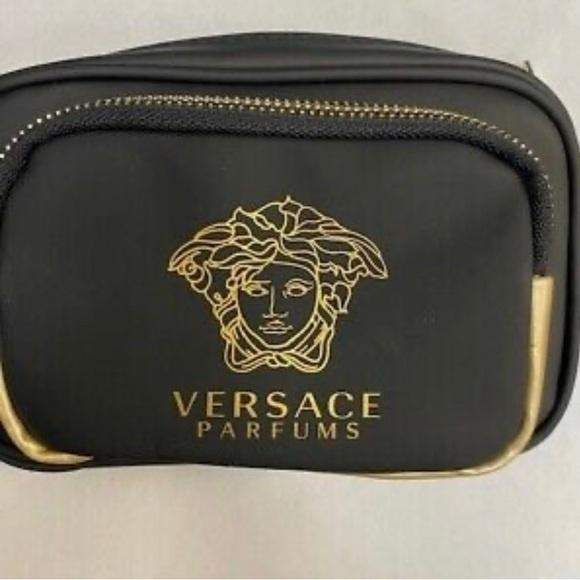VERSACE: (164, 192, 388, 373)
